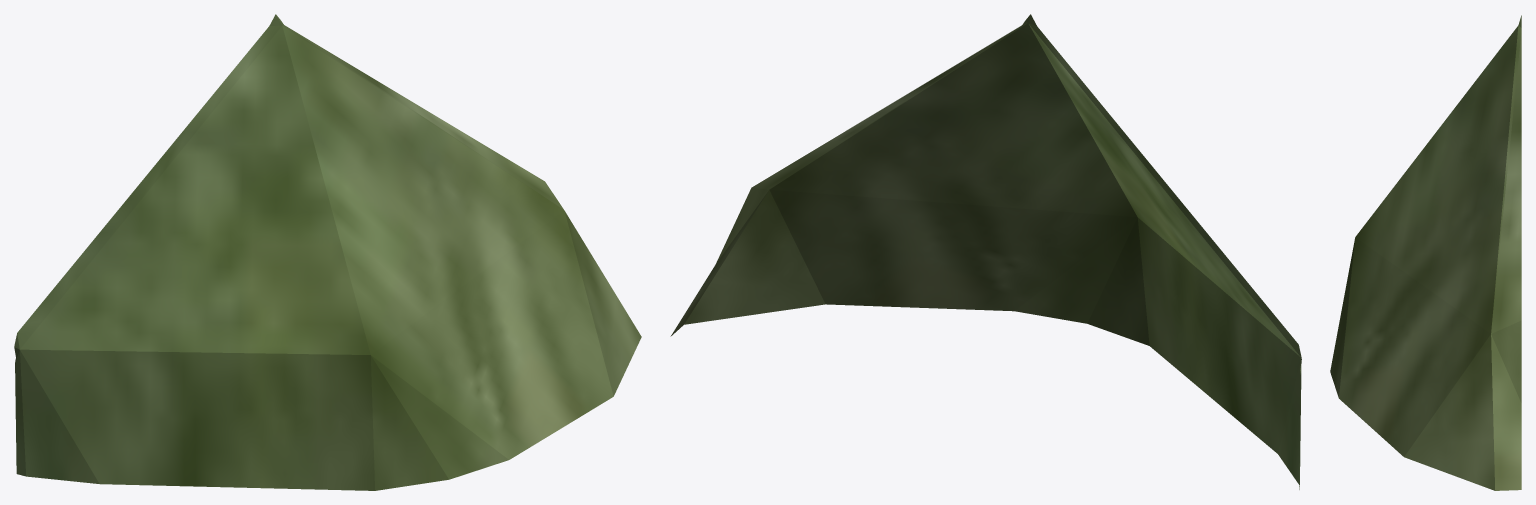
The picture shows the model from 3 angles, left to right: view 1: azimuth 30°, elevation 25°; view 2: azimuth 150°, elevation 25°; view 3: azimuth 270°, elevation 25°; orthographic projection. The views are drawn at different scales.
Size of the model in its own units: 0.7225 by 0.4478 by 0.2333.
Materials: 1 (1 with a texture image).
